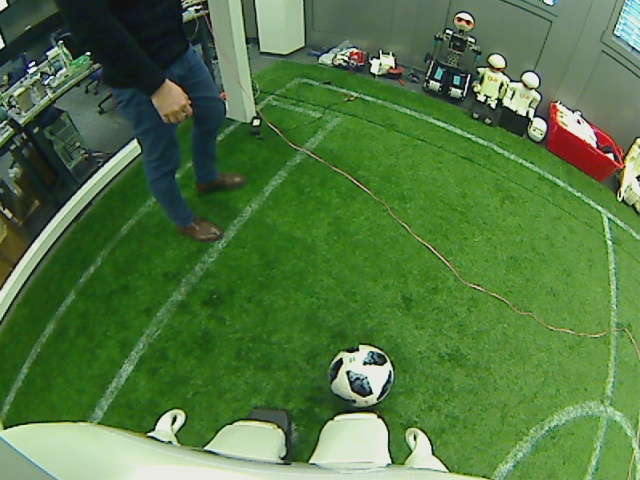ball: (325, 342, 393, 409)
